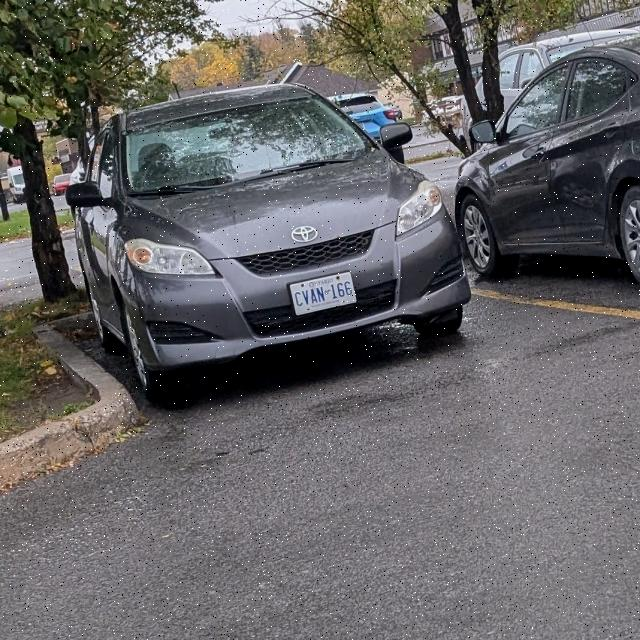plaque: (290, 272, 356, 315)
